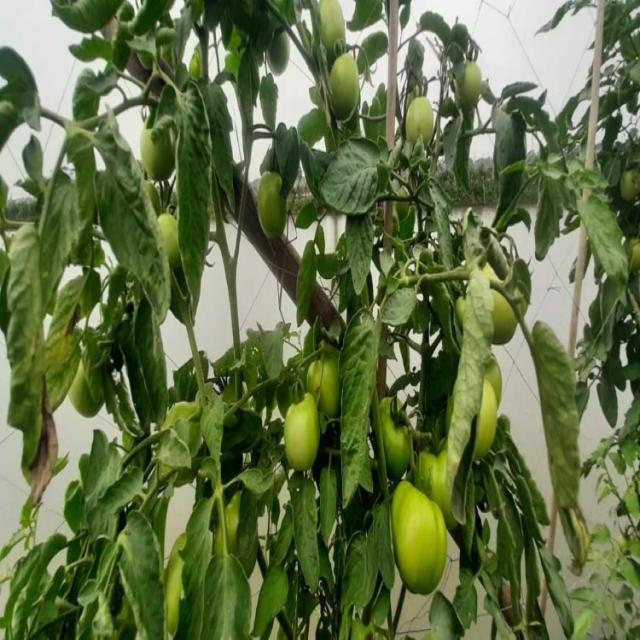tomato: (386, 482, 455, 604), (477, 261, 529, 347), (285, 390, 334, 476), (216, 483, 257, 578), (162, 529, 201, 627), (62, 345, 110, 422), (379, 388, 417, 475), (312, 344, 354, 419), (257, 168, 297, 237), (423, 440, 464, 506), (141, 118, 181, 181), (327, 57, 366, 119), (475, 385, 498, 464), (405, 96, 437, 150), (318, 3, 352, 49), (453, 62, 486, 108), (483, 357, 508, 403), (158, 210, 180, 255), (269, 30, 293, 71), (613, 170, 640, 204), (622, 233, 640, 273)
